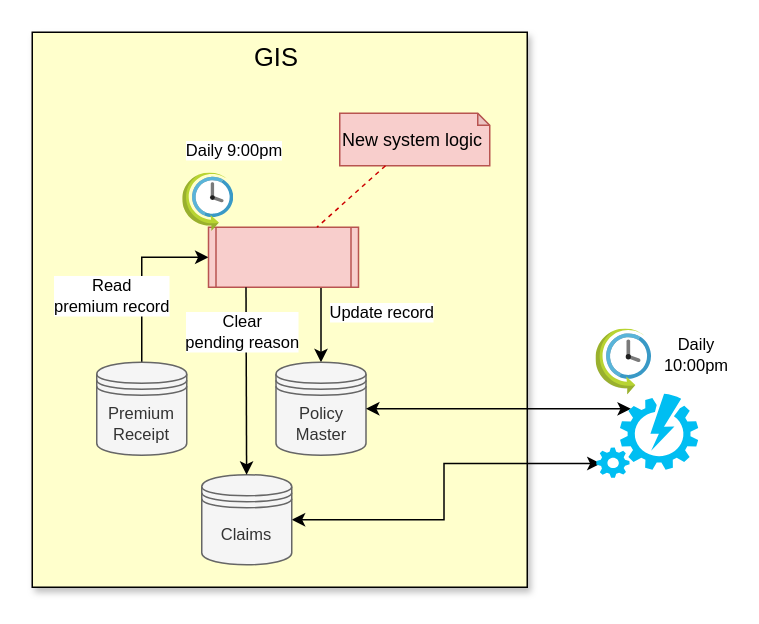
This 759x624 diagram has some shape labels left out. Each missing label, with the centre of its shape:
Auto Update "Hold Claim Indicator": [282,256]
Jet Engine: [647,435]
